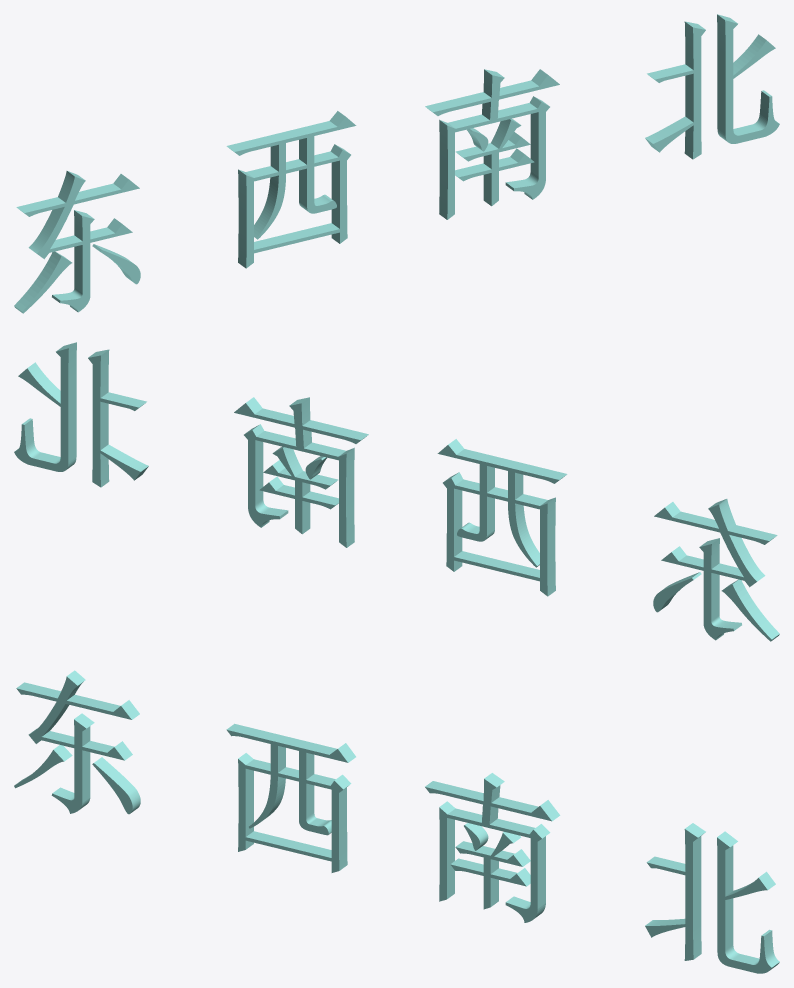
The model's file is 东西南北.fbx.
The picture shows the model from 3 angles, top to bottom: view 1: azimuth 30°, elevation 25°; view 2: azimuth 150°, elevation 25°; view 3: azimuth 330°, elevation 25°; orthographic projection.
Parts seen in each view (by area): view 1: 南.001, 西.001, 北.001, 东.001; view 2: 南.001, 西.001, 北.001, 东.001; view 3: 南.001, 西.001, 北.001, 东.001.
Part boxes in pixels (left/top/right/bottom): 南.001: left=425, top=69, right=559, bottom=219; 西.001: left=226, top=111, right=356, bottom=268; 北.001: left=645, top=14, right=779, bottom=159; 东.001: left=14, top=171, right=140, bottom=313; 南.001: left=234, top=397, right=368, bottom=547; 西.001: left=437, top=439, right=567, bottom=596; 北.001: left=14, top=342, right=148, bottom=487; 东.001: left=653, top=499, right=779, bottom=641; 南.001: left=425, top=773, right=560, bottom=922; 西.001: left=226, top=723, right=355, bottom=872; 北.001: left=645, top=823, right=779, bottom=973; 东.001: left=14, top=670, right=140, bottom=814.
Bounding box in the file's own units: 1068 × 184 × 20.
